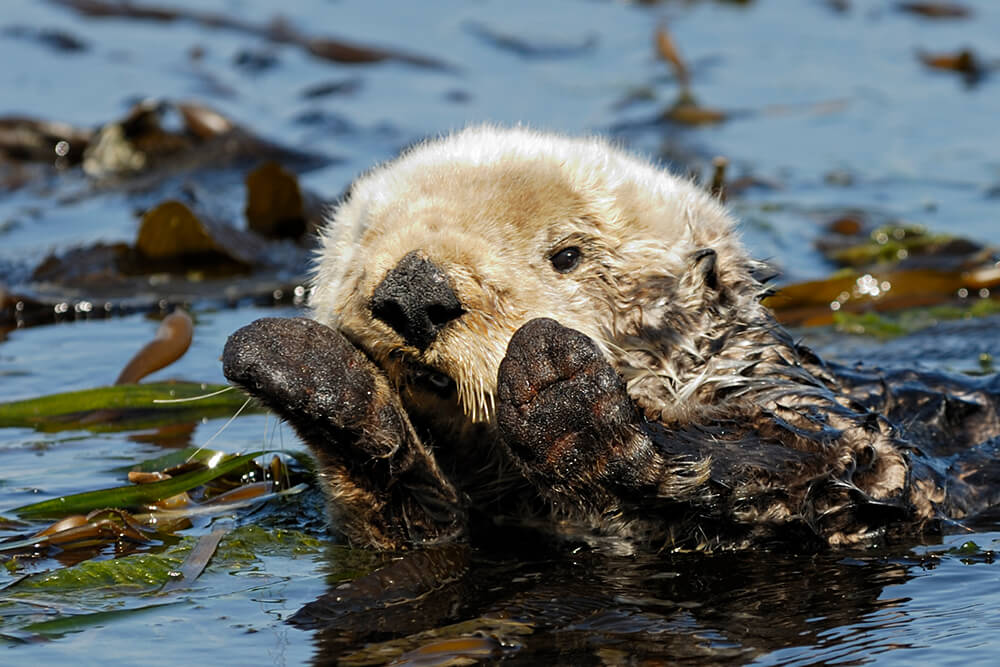otter: (213, 117, 975, 632)
